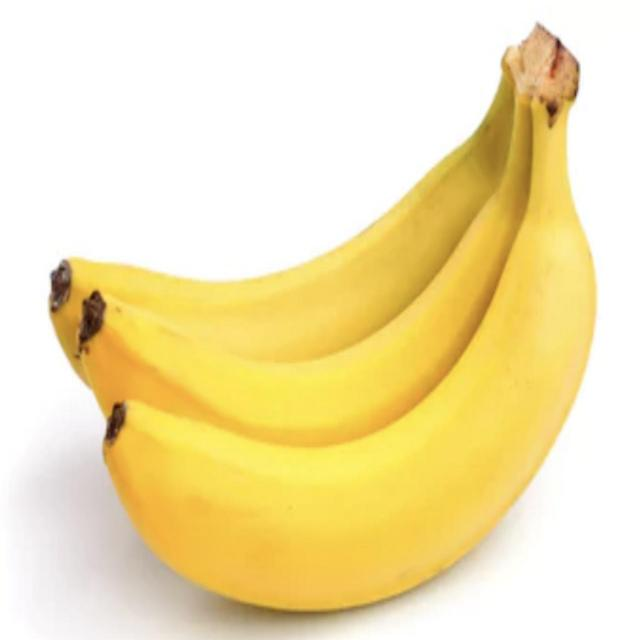banana: (73, 76, 602, 639)
